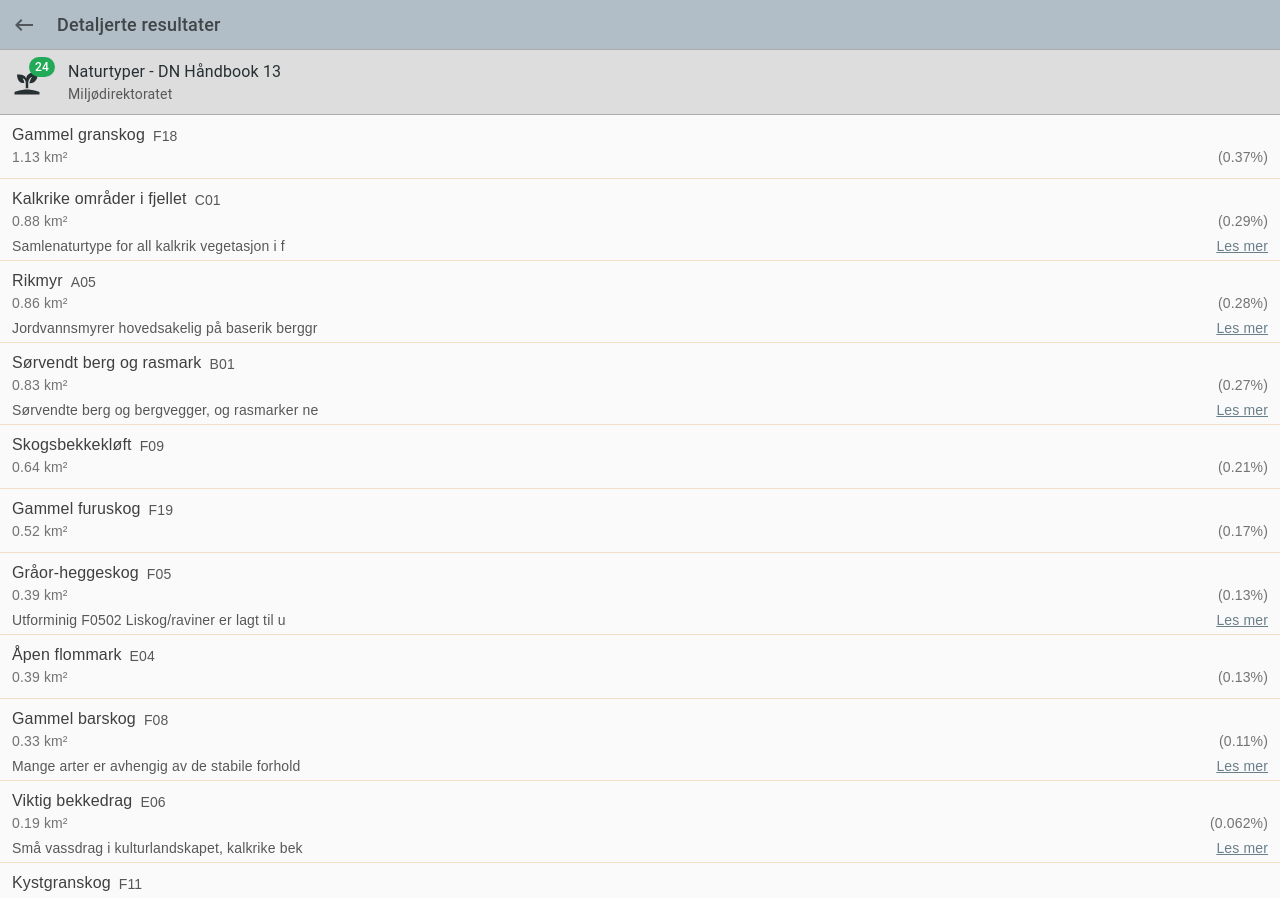
Test: should render polygon details for Naturtyper - DN Håndbook 13
Expected: the text "Detaljerte resultater" is shown, [57,14,220,35]
Expected: the text "Naturtyper - DN Håndbook 13" is shown, [68,62,281,81]
# Click expand
Click the text "Les mer" below "(0.29%)": (1242, 246) [1216,238,1268,254]
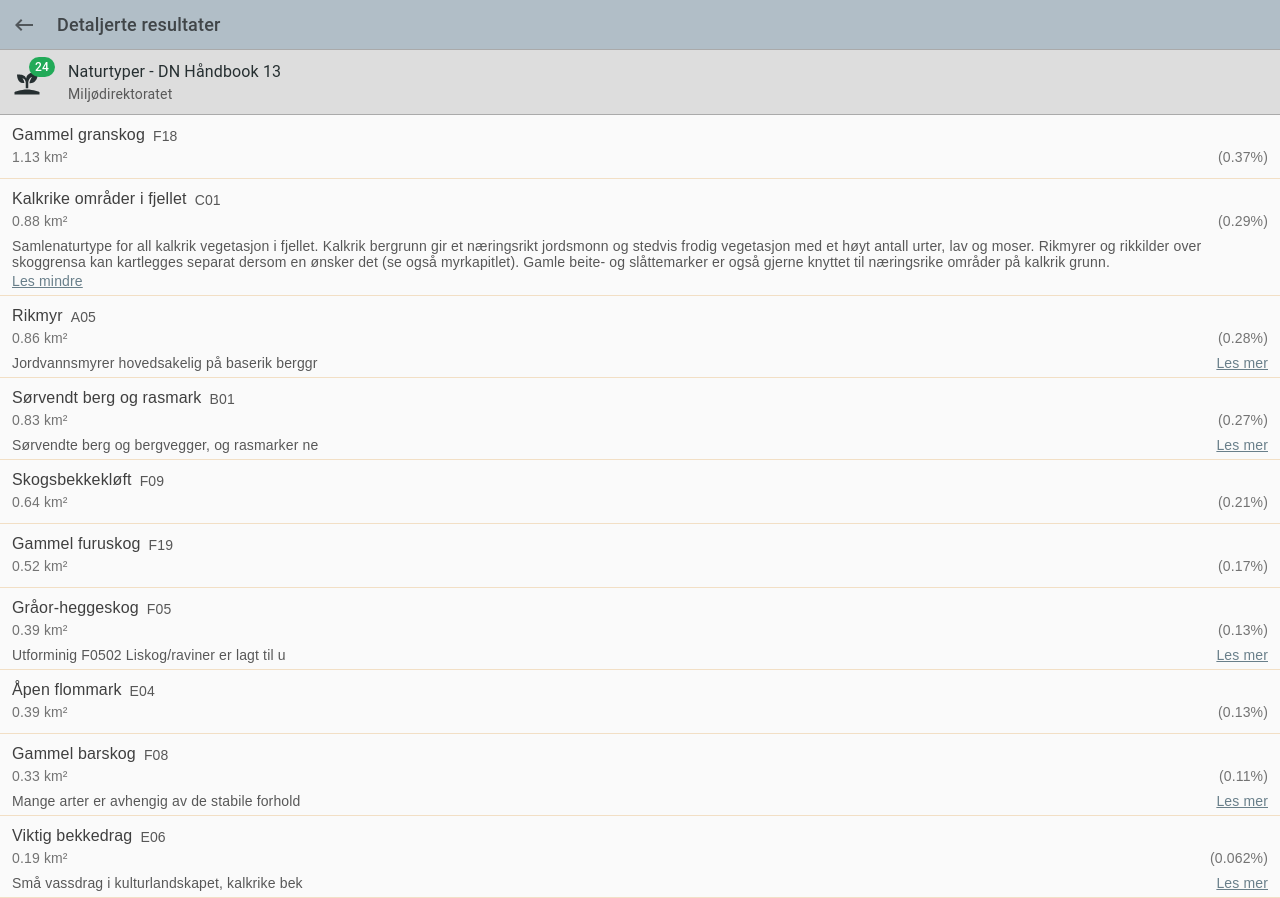
Expected: the text "Les mindre" is shown, [12,273,83,289]
Expected: the text "Samlenaturtype for all kalkrik vegetasjon i fjellet. Kalkrik bergrunn gir et næringsrikt jordsmonn og stedvis frodig veg" is shown, [12,238,1201,270]
